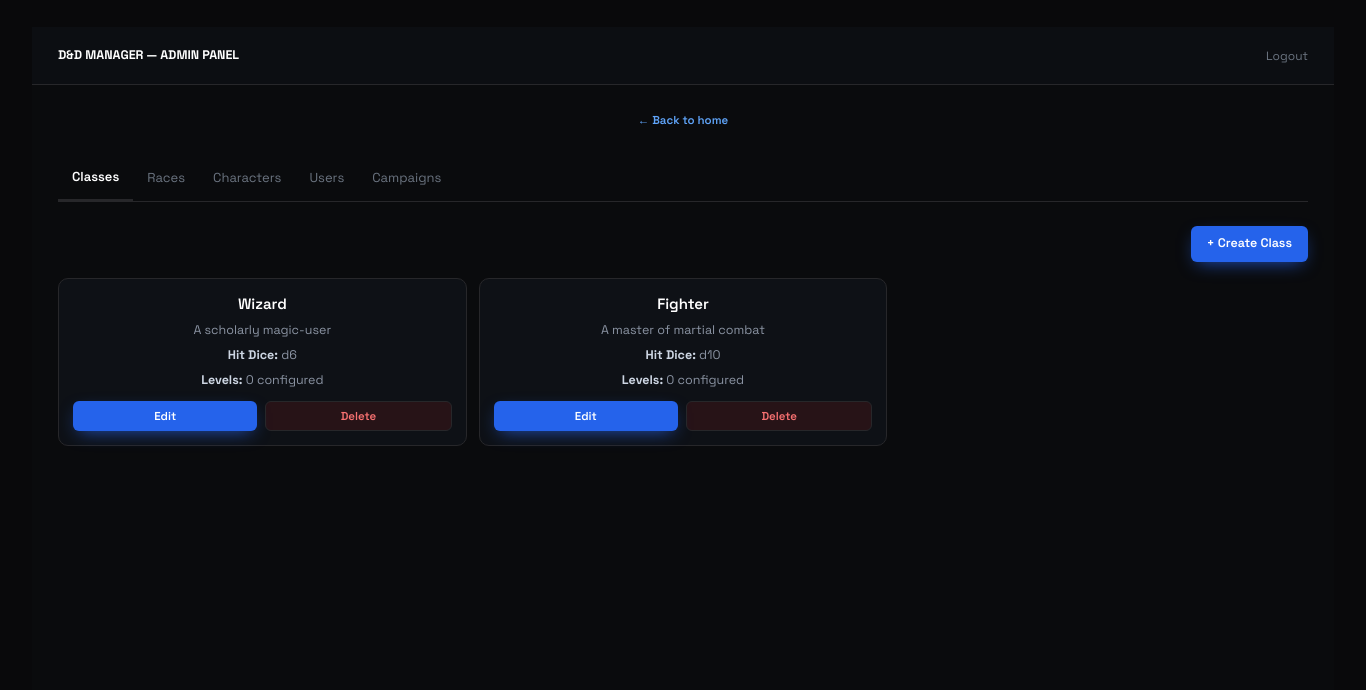
Test: AdminPanel — Classes saving throws › clears saving throws when cancelling and reopening create form
Expected: the heading "Wizard" is shown, [238,294,287,312]
Note: Open create, check a checkbox, then cancel
Click the button "+ Create Class" at point(1249, 244), box [1191,226,1308,262]
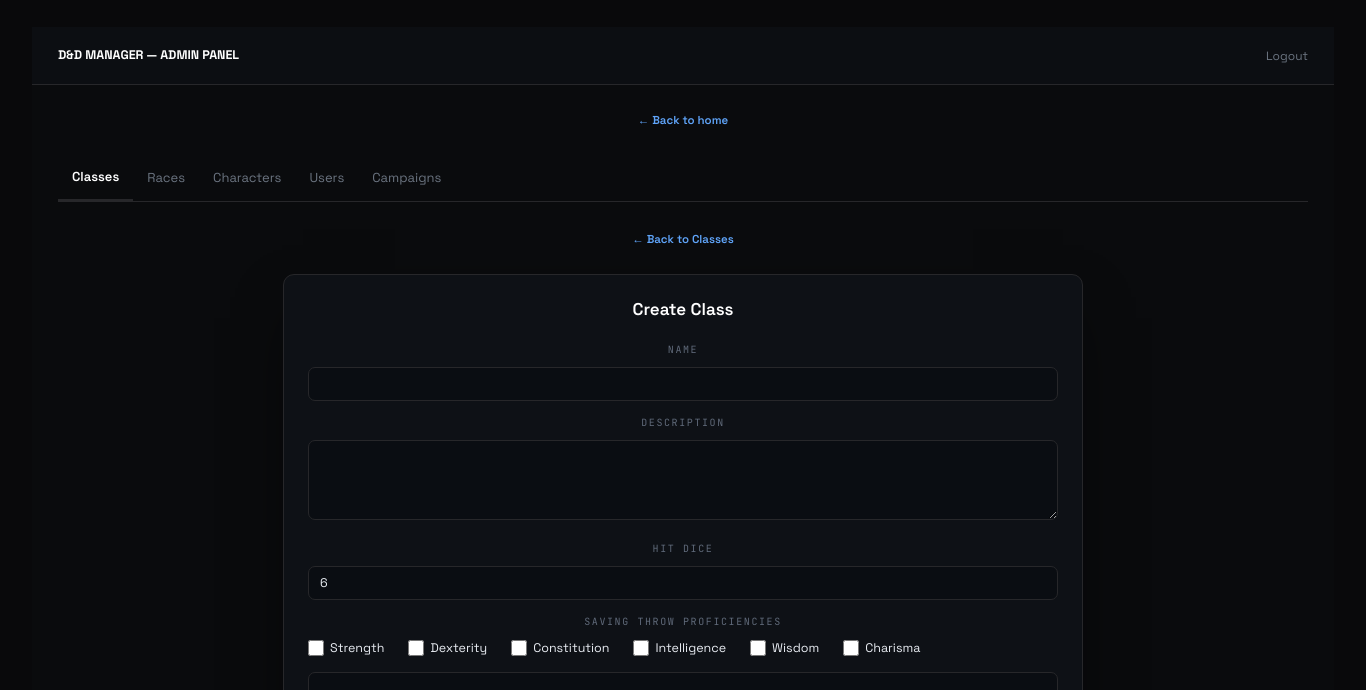
Click the checkbox labelled "Charisma" at point(851, 648), box [843,640,859,656]
(page scrolled)
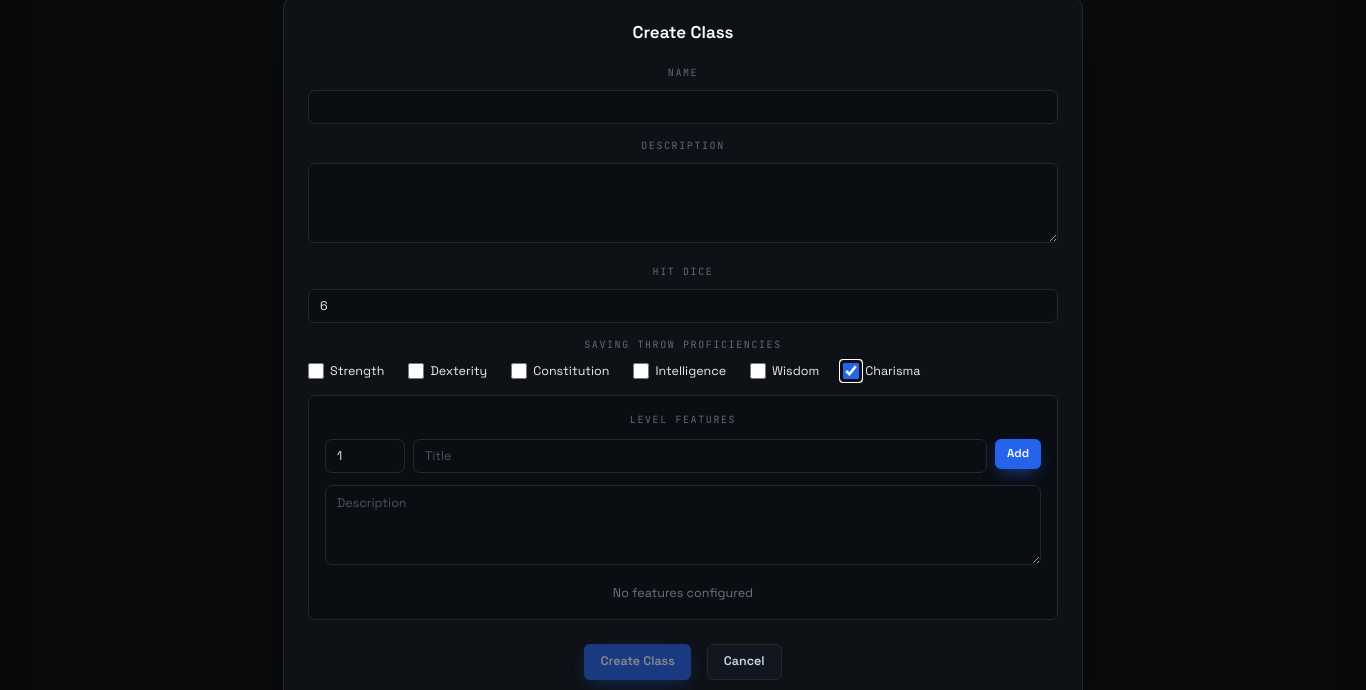
Expected: the checkbox labelled "Charisma" is checked, [843,363,859,379]
Click the button "Cancel" at point(744, 662), box [707,644,782,680]
(page scrolled)
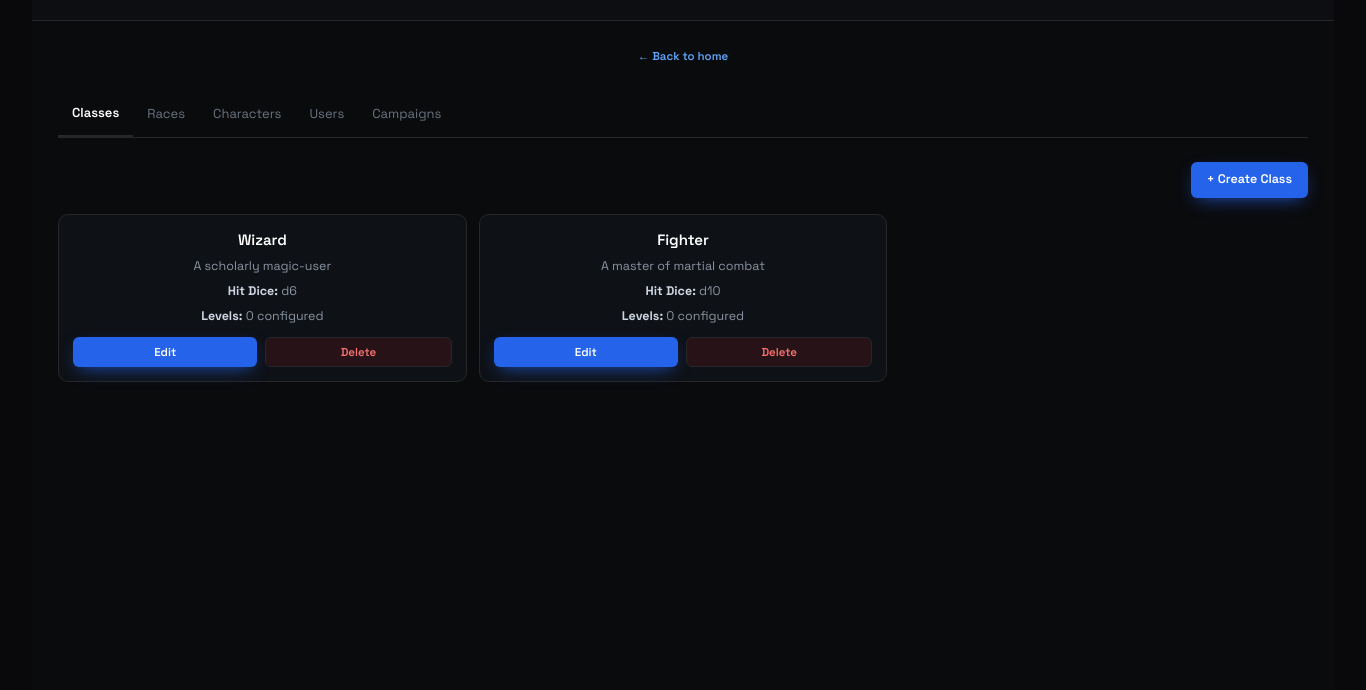
Note: Reopen create — checkboxes must be cleared
Click the button "+ Create Class" at point(1249, 180), box [1191,162,1308,198]
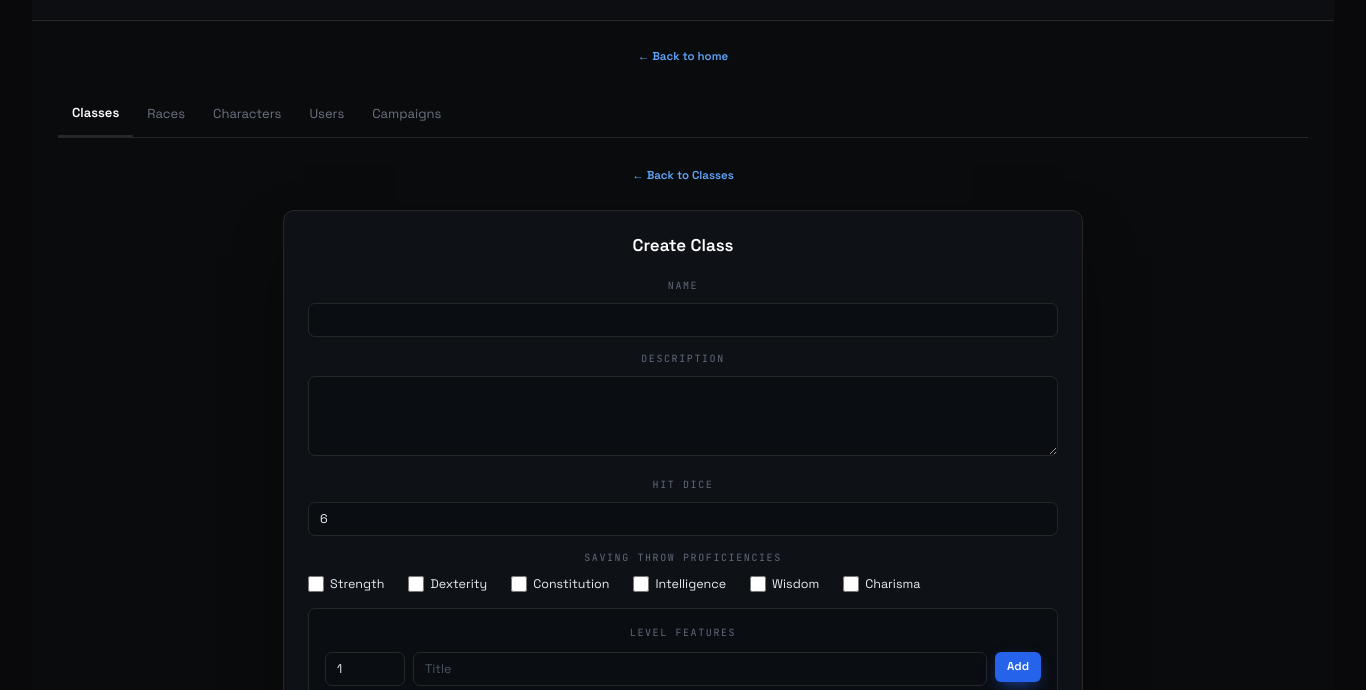
Expected: the checkbox labelled "Charisma" is not checked, [843,576,859,592]
